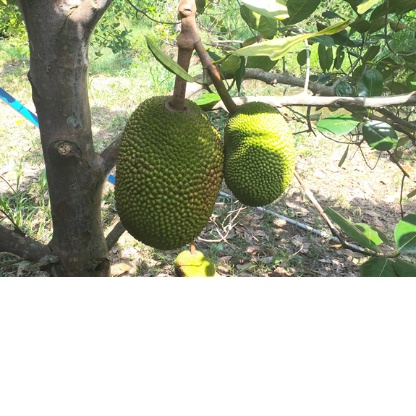mit: (100, 71, 225, 244), (197, 38, 305, 205)
